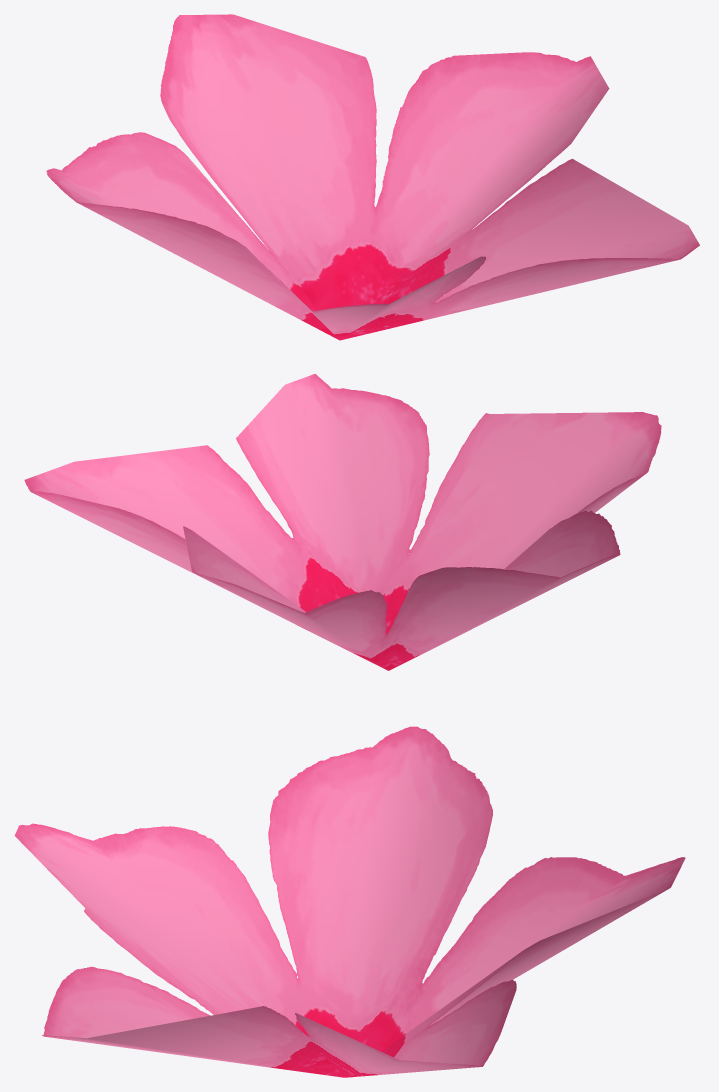
The model's file is PetalPink_2.obj.
3 views of the same model, one above another, from view 1: azimuth 30°, elevation 25°; view 2: azimuth 150°, elevation 25°; view 3: azimuth 270°, elevation 25° (orthographic). The views are drawn at different scales.
Parts seen in each view (by area): view 1: PetalPink_2; view 2: PetalPink_2; view 3: PetalPink_2.
Part boxes in pixels (box(x1,y1,x2,y2)): PetalPink_2: box(46, 14, 699, 340); PetalPink_2: box(24, 374, 661, 670); PetalPink_2: box(14, 726, 685, 1077).
Bounding box in the file's own units: 0.6732 × 0.2361 × 0.6311.
1 material, 1 textured.
